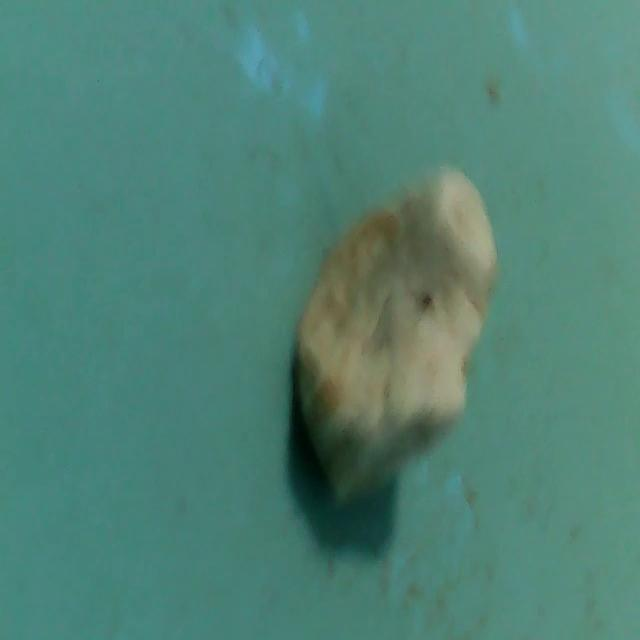rock: (287, 160, 515, 523)
